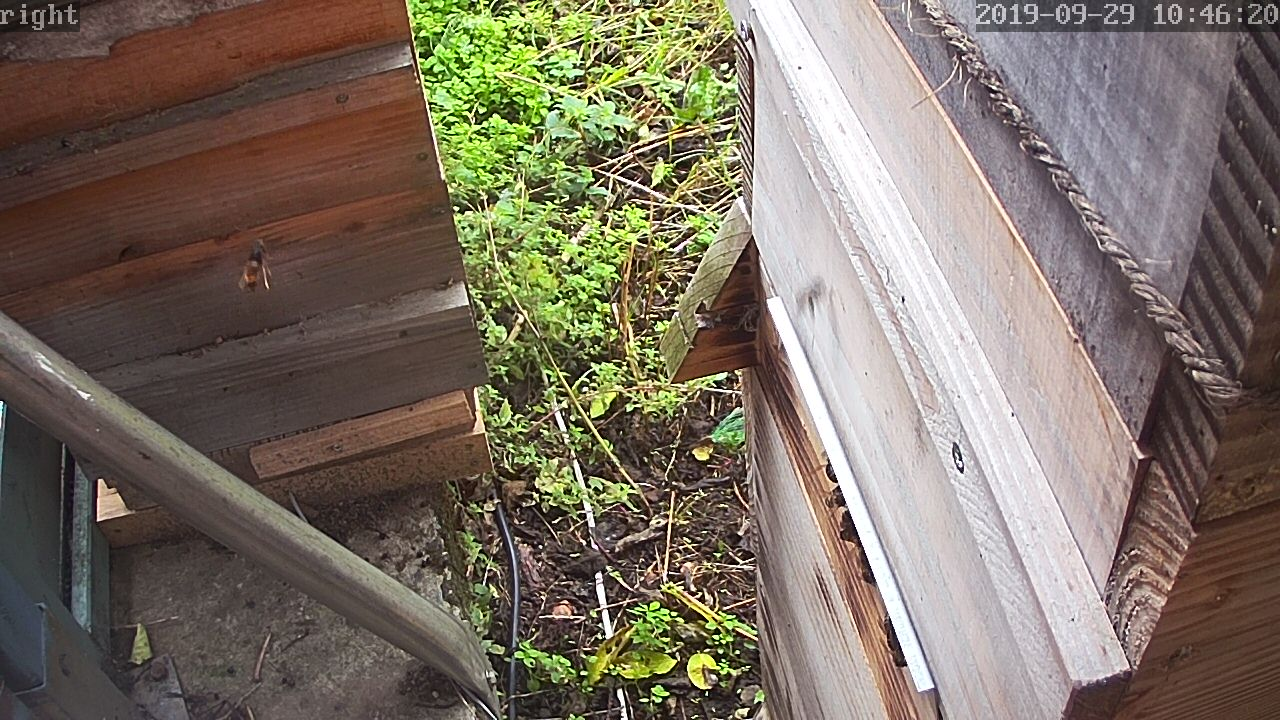bee: (818, 456, 850, 511), (881, 620, 913, 667), (853, 544, 879, 587), (834, 506, 860, 544)
hornet: (229, 236, 279, 297)
